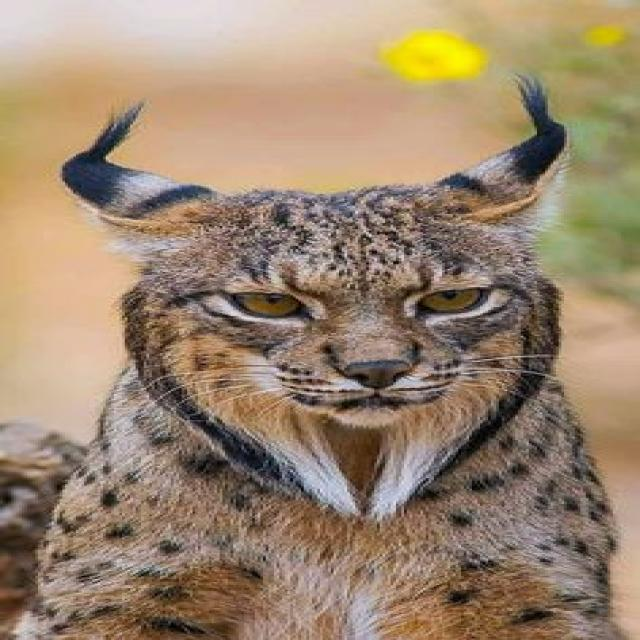Carnivorous: (14, 72, 624, 640)
